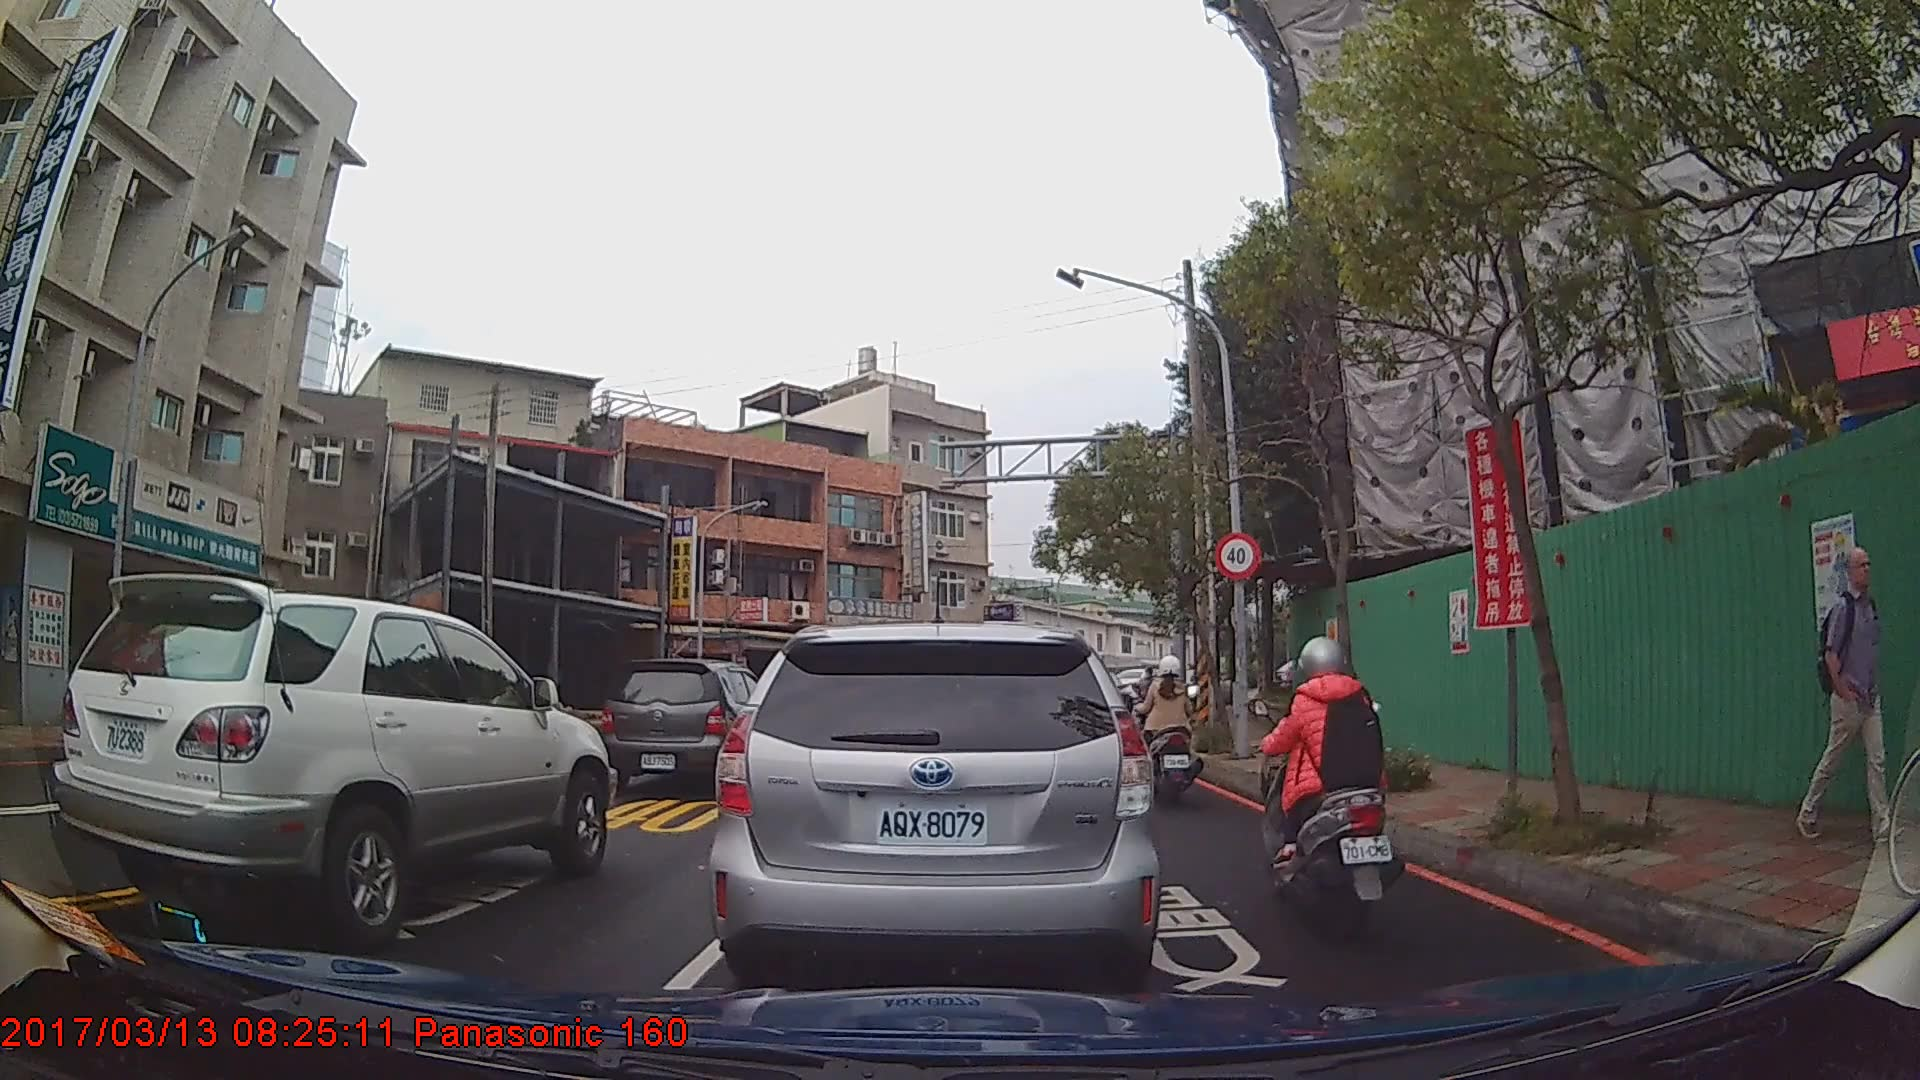pedestrian: (1802, 539, 1891, 842)
rider: (1256, 637, 1409, 939), (1141, 655, 1200, 800), (1134, 664, 1159, 727)
vehicle: (52, 571, 613, 945), (707, 619, 1161, 997), (601, 657, 784, 791)
